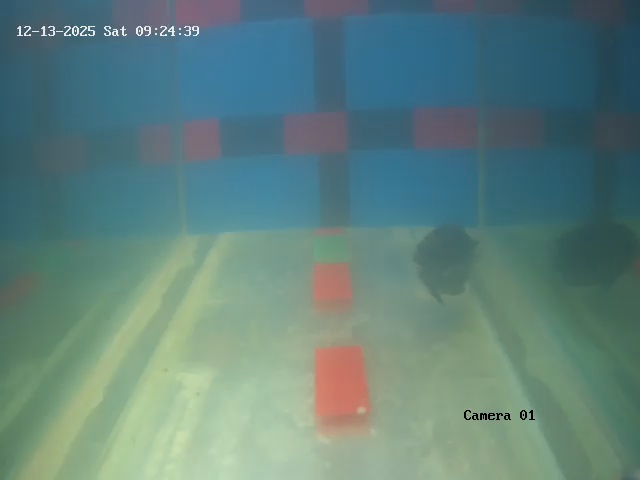fish: (415, 225, 479, 299)
